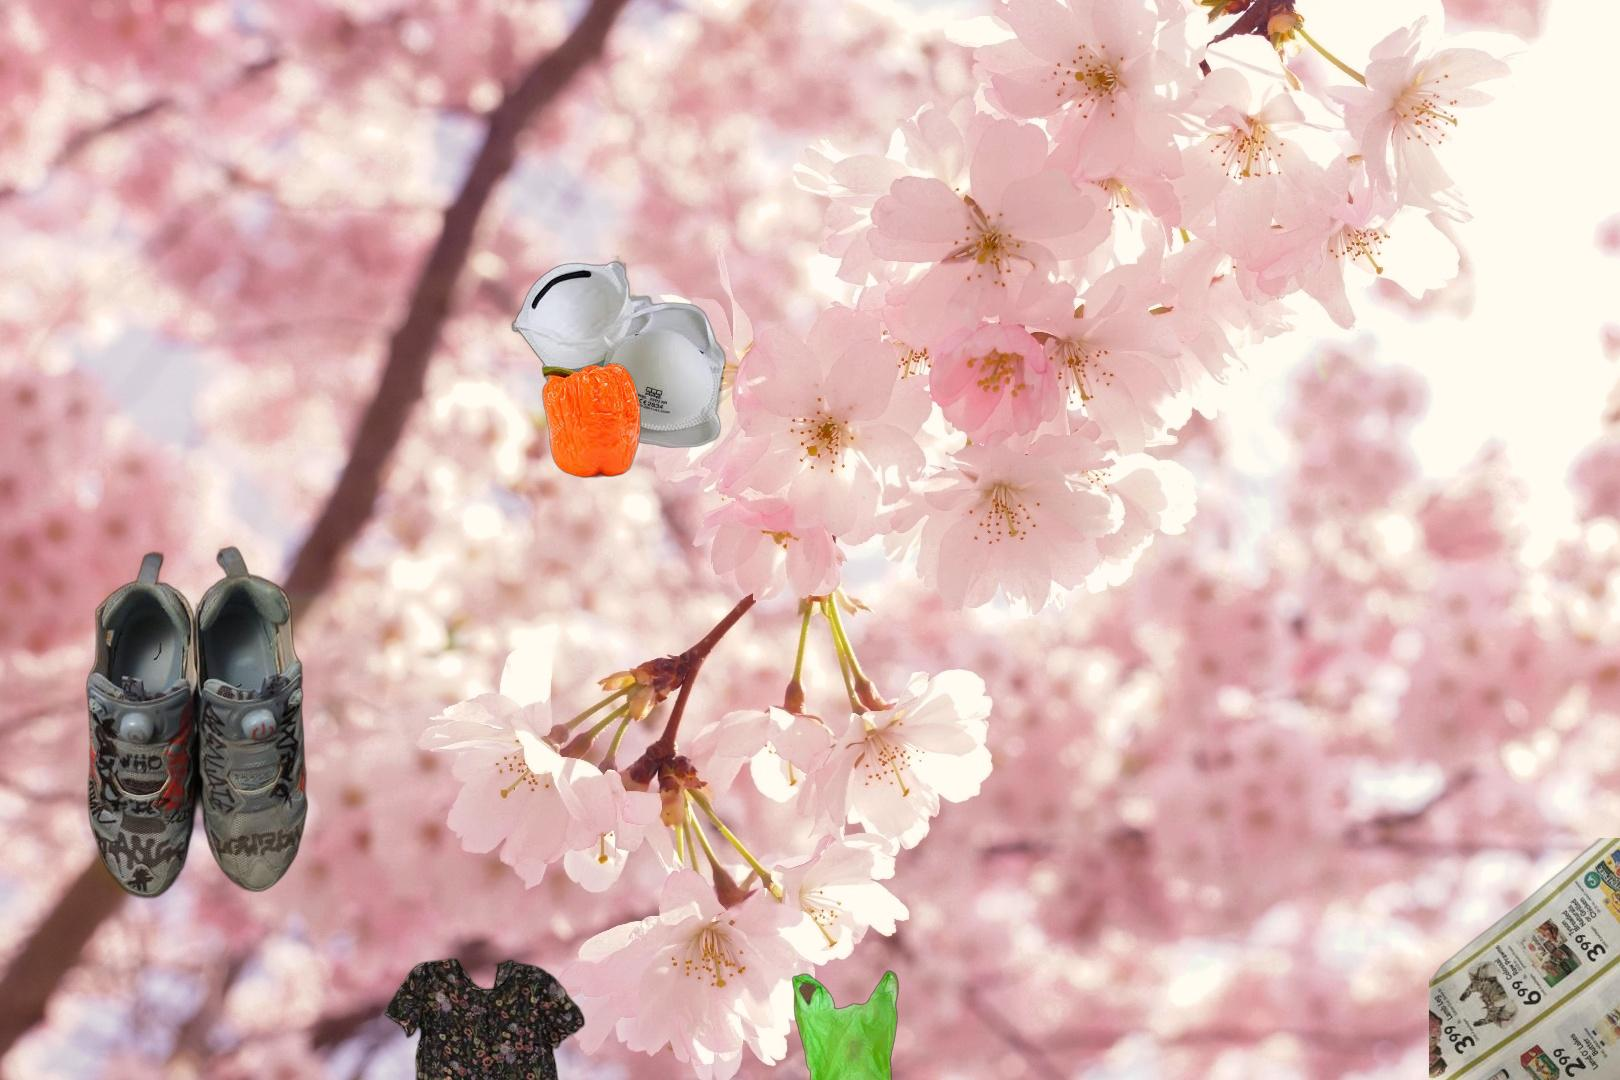biological: (539, 360, 644, 480)
clothes: (335, 955, 648, 1080)
paper: (1429, 838, 1620, 1080)
plastic-bag: (789, 969, 901, 1080)
shoes: (84, 542, 311, 902)
trash: (508, 249, 728, 450)
